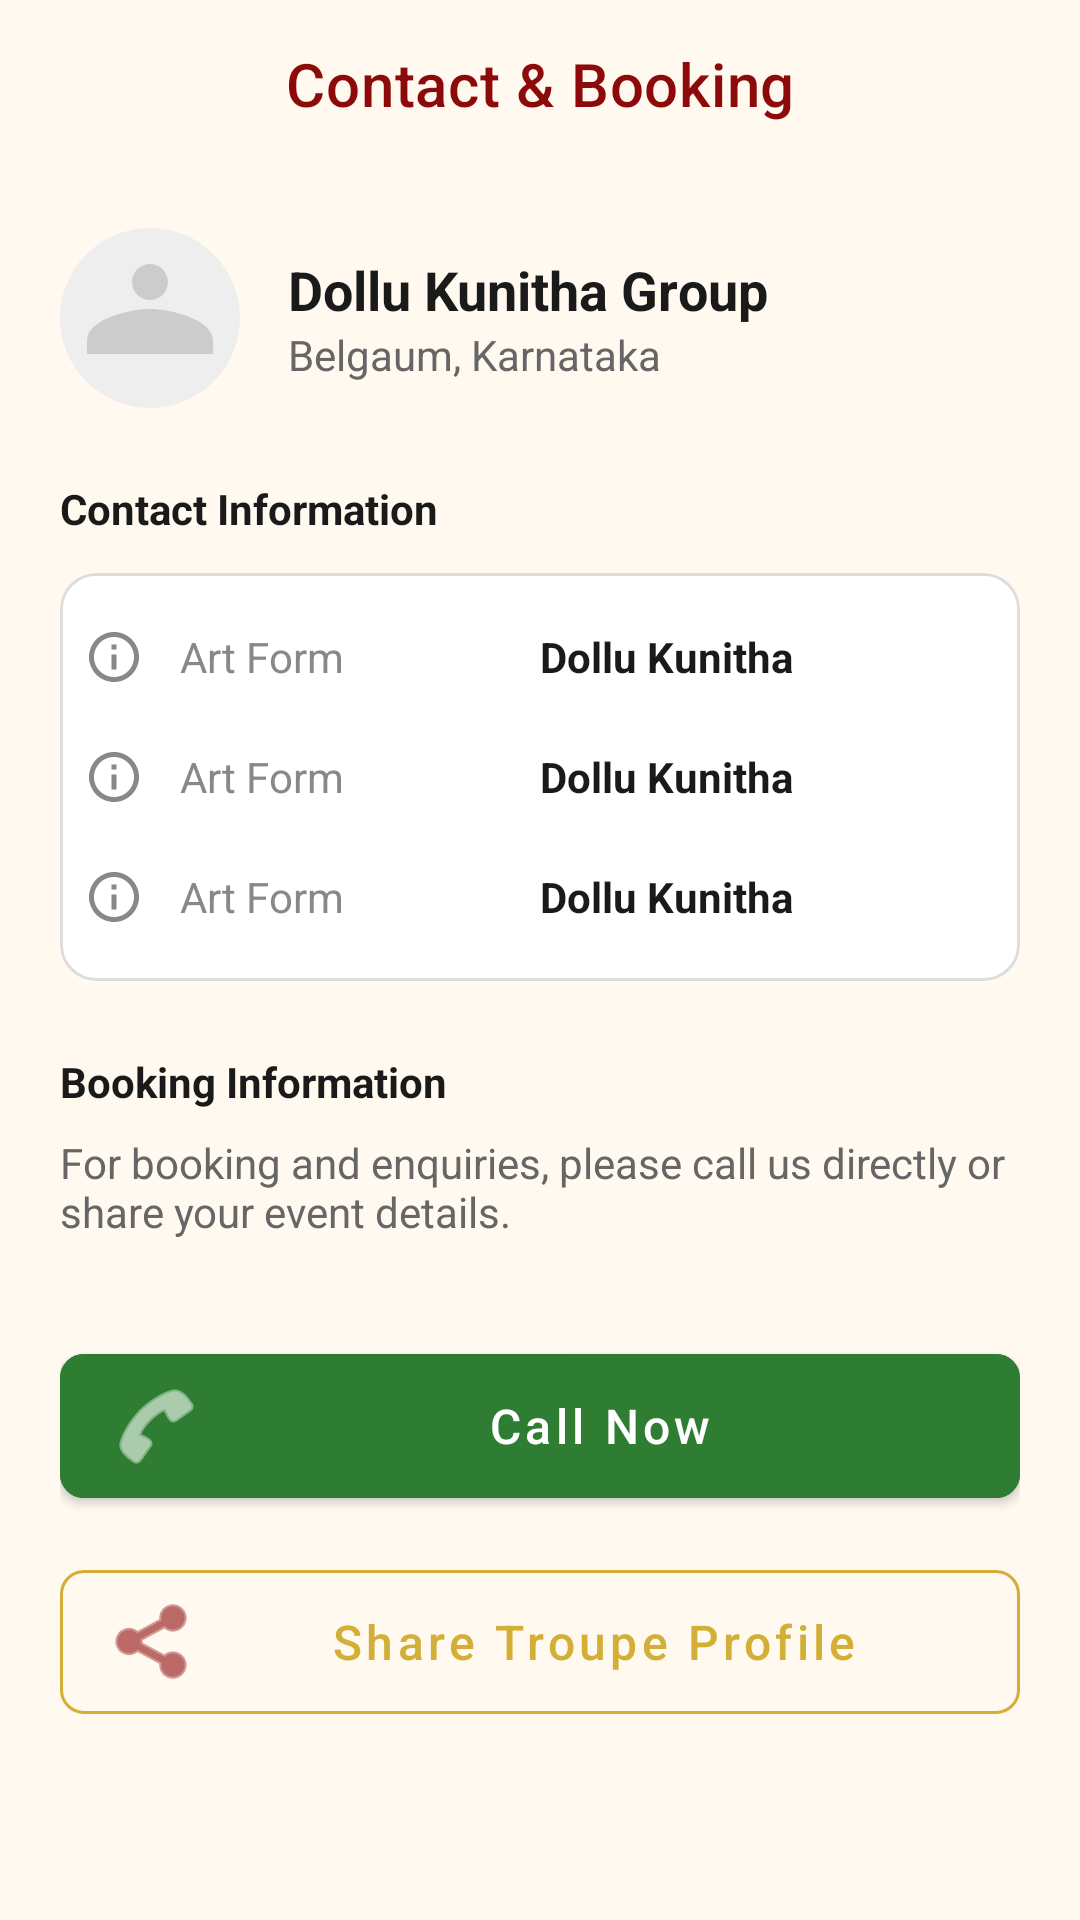

Where icons sit on this 1080px×1920px app screen, as (x1, y1, x2, y2):
about: (89, 632, 139, 682), (89, 752, 139, 802), (89, 872, 139, 922)
